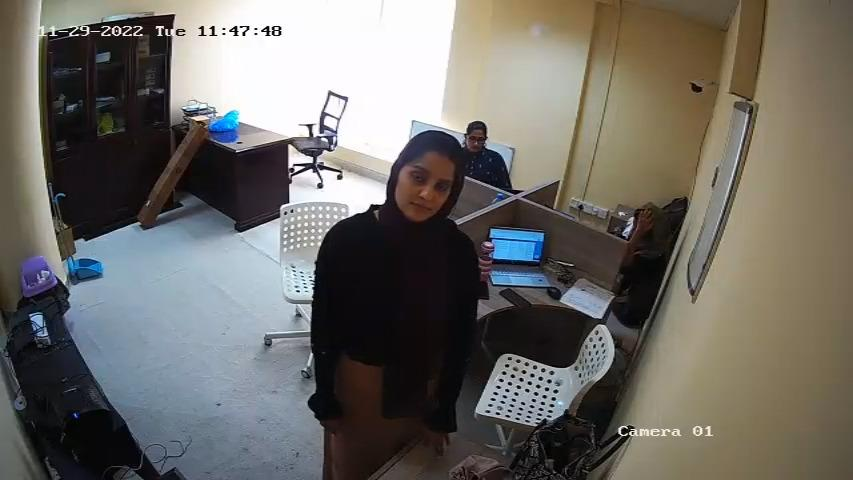no_apron: (331, 229, 455, 385)
